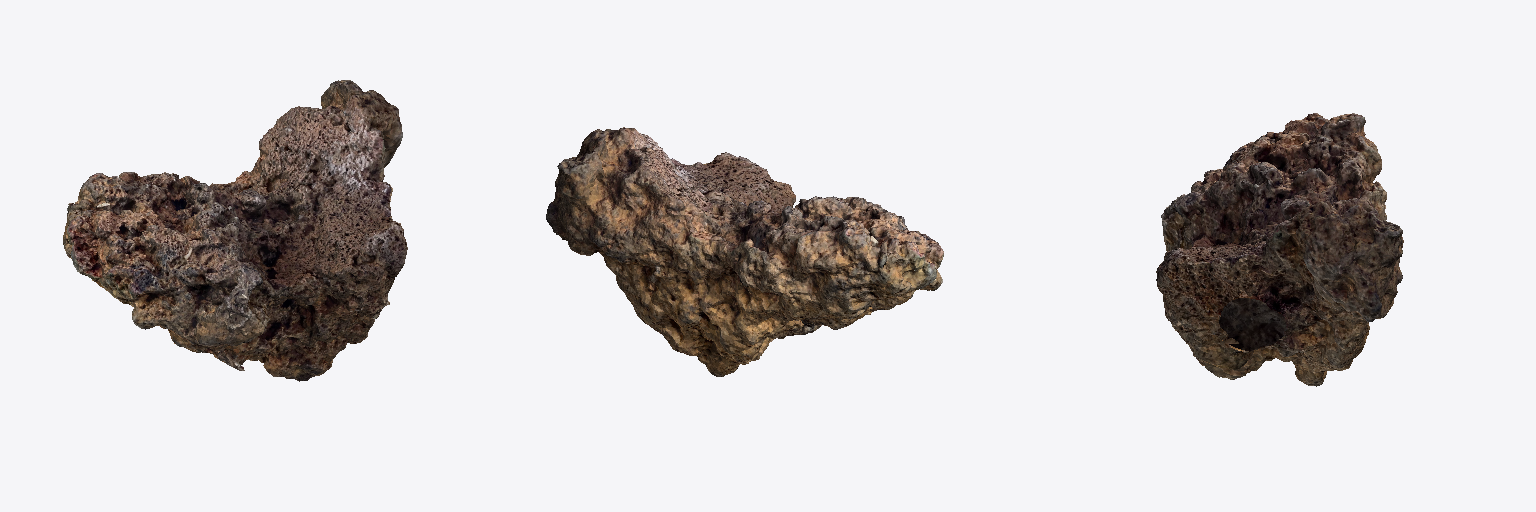
3 renders of one model, left to right at view 1: azimuth 30°, elevation 25°; view 2: azimuth 150°, elevation 25°; view 3: azimuth 270°, elevation 25°, orthographic.
Visible parts, largest first — view 1: #Spacerock_Small; view 2: #Spacerock_Small; view 3: #Spacerock_Small.
Boxes of the visible parts, <box> form: #Spacerock_Small: <box>63,80,407,381</box>; #Spacerock_Small: <box>546,127,943,376</box>; #Spacerock_Small: <box>1156,113,1403,386</box>.
Bounding box in the file's own units: 2.93 × 1.83 × 1.8.
1 materials, 1 textured.